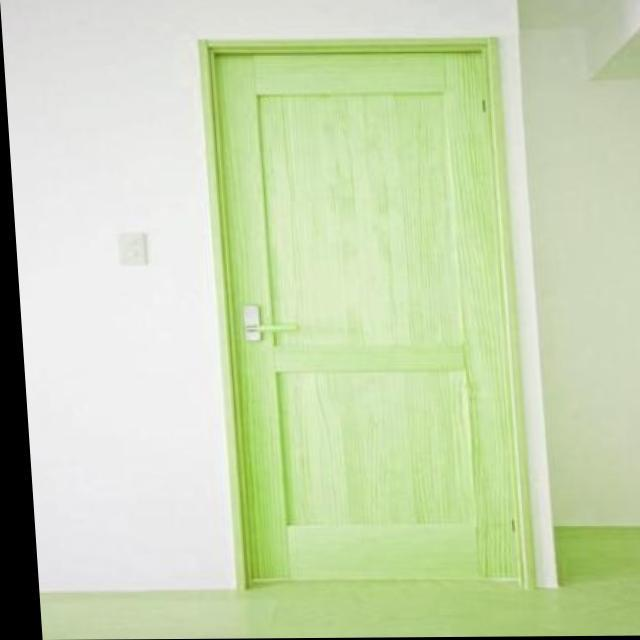door_handle: (240, 317, 294, 342)
